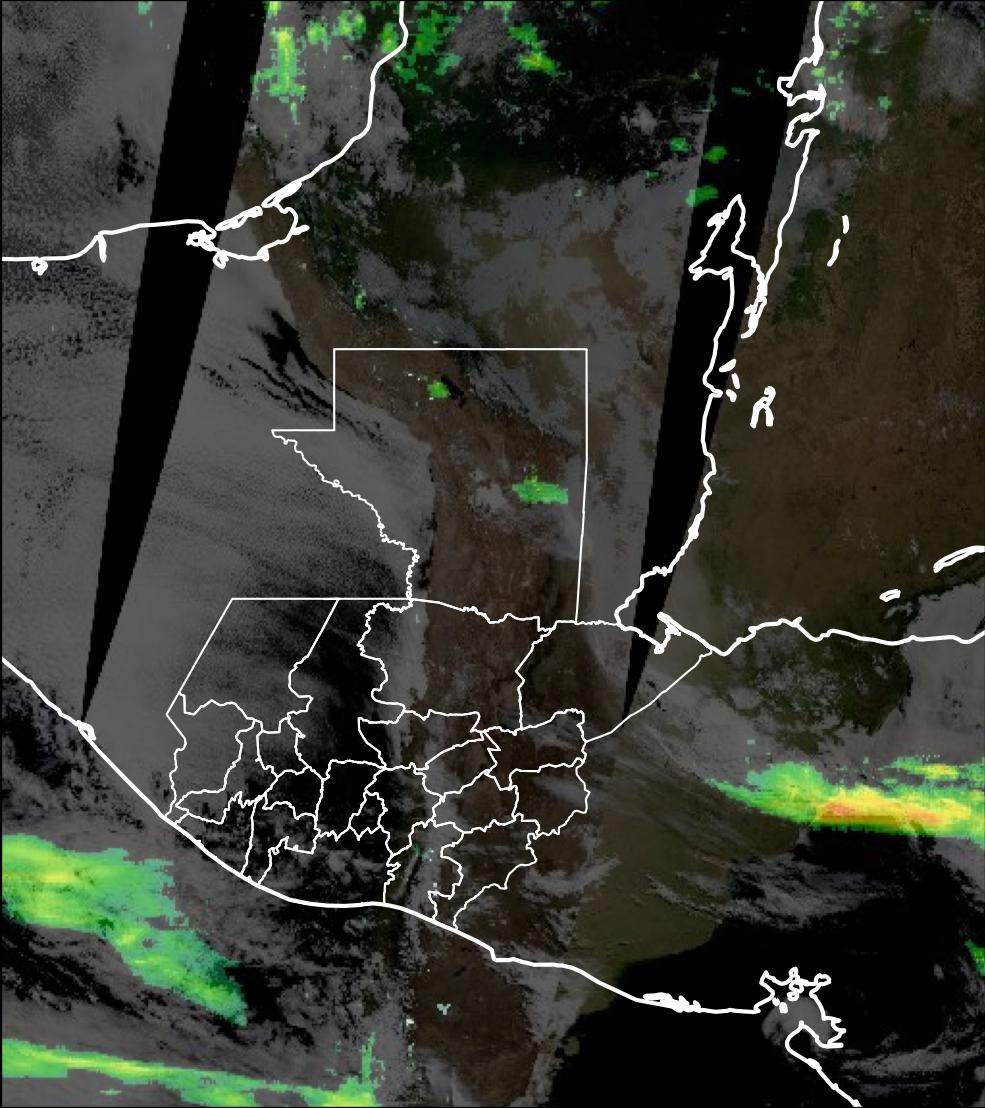precipitacion: (805, 763, 973, 846)
